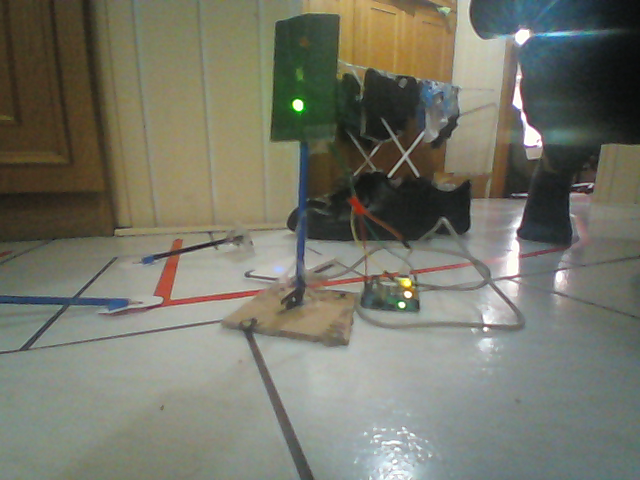green_sign: (265, 12, 345, 143)
